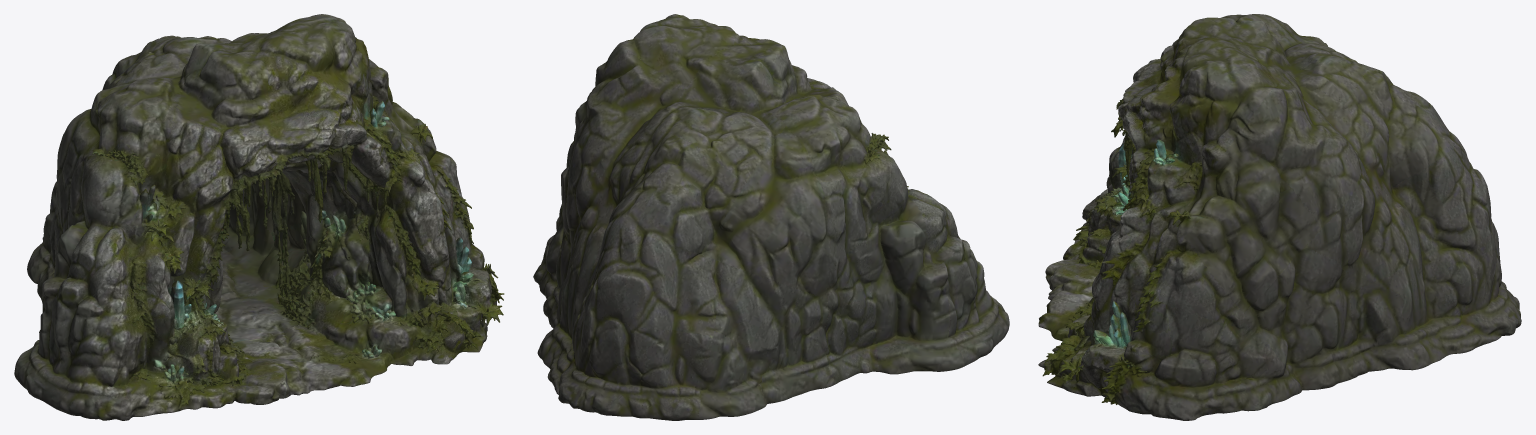
File: Meshy_AI_enchanted_cave_entran_0823035120_image-to-3d-texture.glb
The picture shows the model from 3 angles, left to right: view 1: azimuth 30°, elevation 25°; view 2: azimuth 150°, elevation 25°; view 3: azimuth 270°, elevation 25°; orthographic projection. The views are drawn at different scales.
Visible parts, largest first — view 1: mesh_node; view 2: mesh_node; view 3: mesh_node.
Boxes of the visible parts, x1,y1,x2,y2 form: mesh_node: [14, 14, 504, 420]; mesh_node: [533, 14, 1009, 420]; mesh_node: [1038, 14, 1521, 420].
Size of the model in its own units: 1.9 by 1.12 by 1.72.
Materials: 1 (1 with a texture image).
